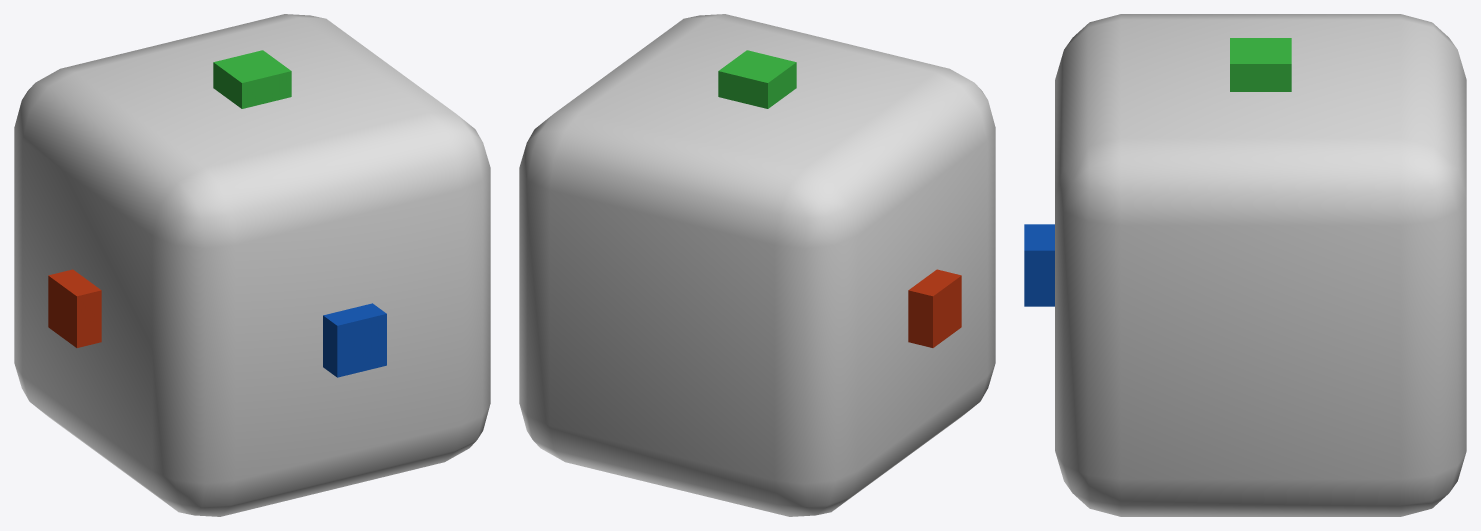
Rendered from Primitive_Cube_Debug.fbx.
The picture shows the model from 3 angles, left to right: view 1: azimuth 30°, elevation 25°; view 2: azimuth 150°, elevation 25°; view 3: azimuth 270°, elevation 25°; orthographic projection. The views are drawn at different scales.
Parts seen in each view (by area): view 1: Cube_Debug, Cube_Z_Axis, Cube_X_Axis, Cube_Y_Axis; view 2: Cube_Debug, Cube_X_Axis, Cube_Y_Axis; view 3: Cube_Debug, Cube_Y_Axis, Cube_Z_Axis.
Part boxes in pixels (x1,y1,x2,y2): Cube_Debug: (14, 14, 490, 516); Cube_Z_Axis: (323, 303, 386, 377); Cube_X_Axis: (48, 269, 101, 347); Cube_Y_Axis: (213, 50, 291, 108); Cube_Debug: (519, 14, 995, 516); Cube_X_Axis: (908, 269, 961, 347); Cube_Y_Axis: (718, 50, 796, 108); Cube_Debug: (1055, 14, 1466, 516); Cube_Y_Axis: (1230, 38, 1291, 91); Cube_Z_Axis: (1024, 224, 1054, 306).
Size of the model in its own units: 108 by 108 by 107.
